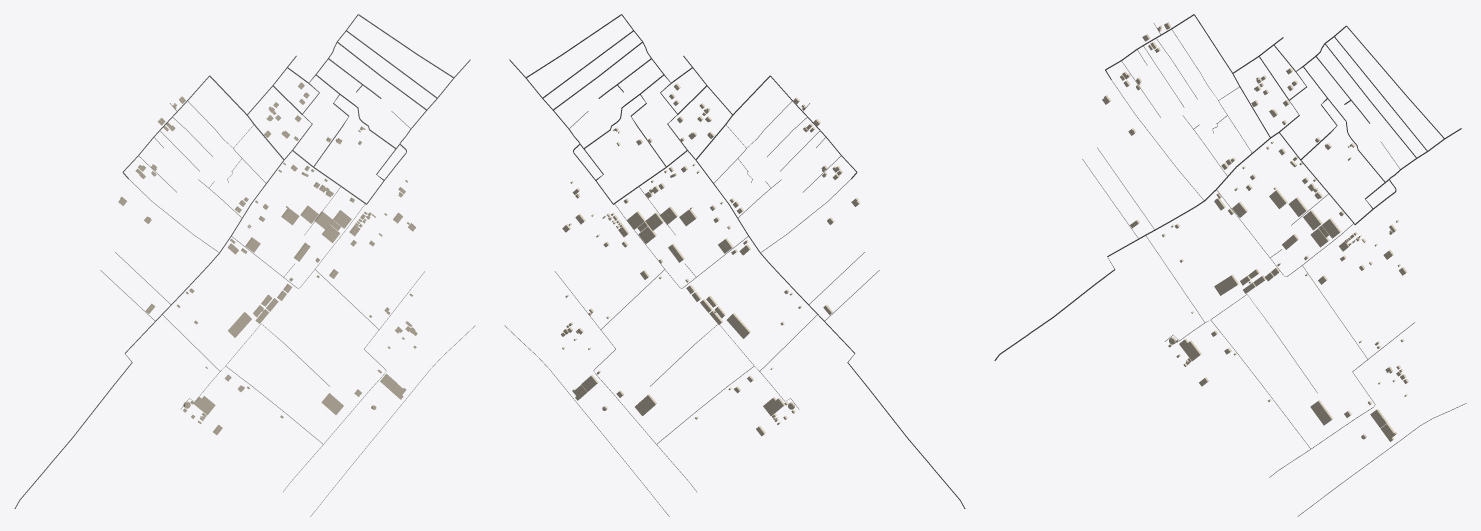
Rendered from historic-palestine-01_19_3434_3131.glb.
3 renders of one model, left to right at view 1: azimuth 30°, elevation 25°; view 2: azimuth 150°, elevation 25°; view 3: azimuth 330°, elevation 25°, orthographic. The views are drawn at different scales.
Bounding box in the file's own units: 1455 × 1482 × 8.7.
